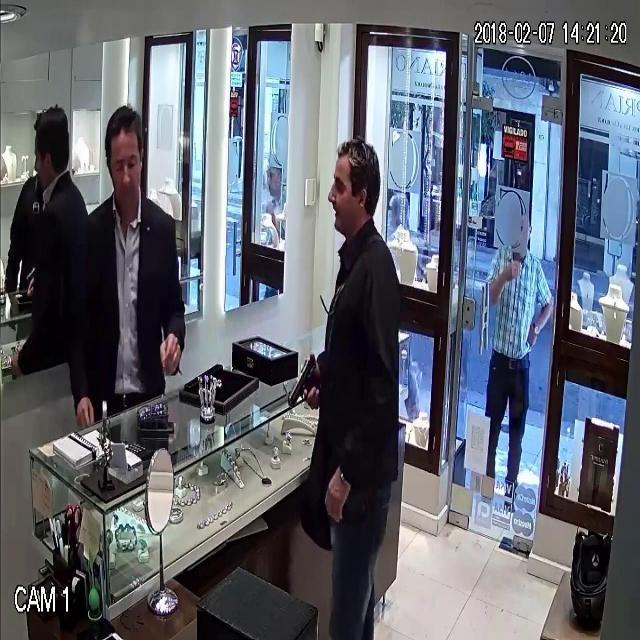weapon: (279, 340, 325, 428)
